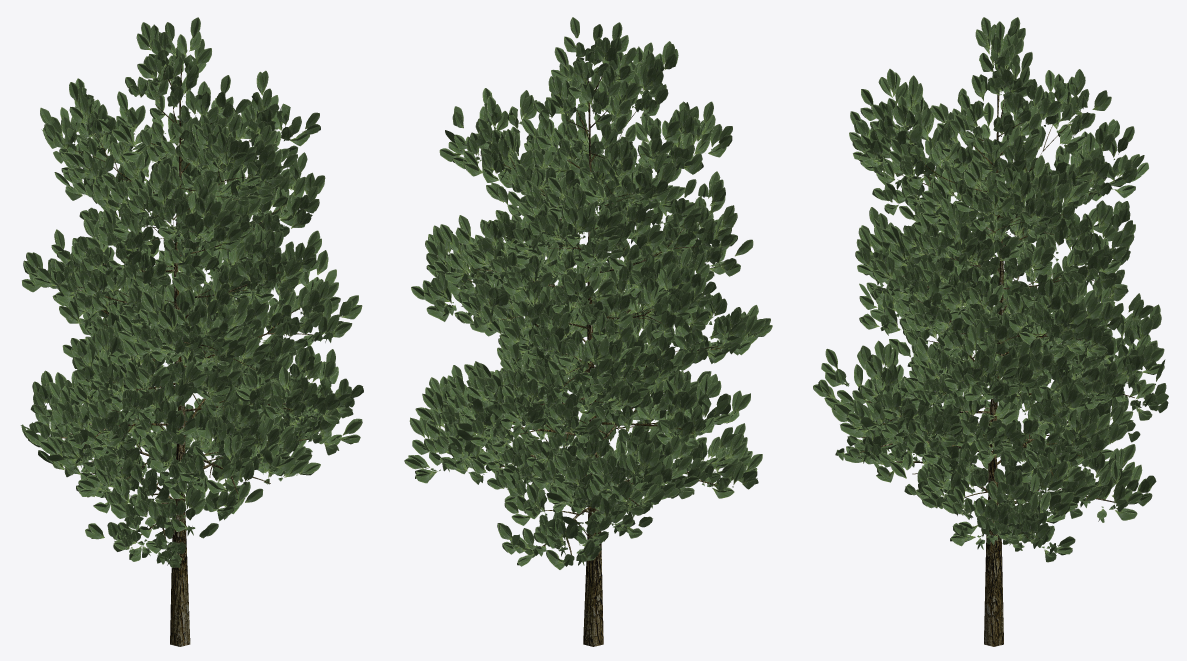
The model's file is shu4.FBX.
3 views of the same model, side by side, from view 1: azimuth 30°, elevation 25°; view 2: azimuth 150°, elevation 25°; view 3: azimuth 270°, elevation 25° (orthographic).
Visible parts, largest first — view 1: shu4; view 2: shu4; view 3: shu4.
Part boxes in pixels (left/top/right/bottom): shu4: left=20, top=17, right=363, bottom=646; shu4: left=404, top=17, right=772, bottom=646; shu4: left=813, top=17, right=1168, bottom=646.
Size of the model in its own units: 486 by 915 by 492.
2 materials, 2 textured.
